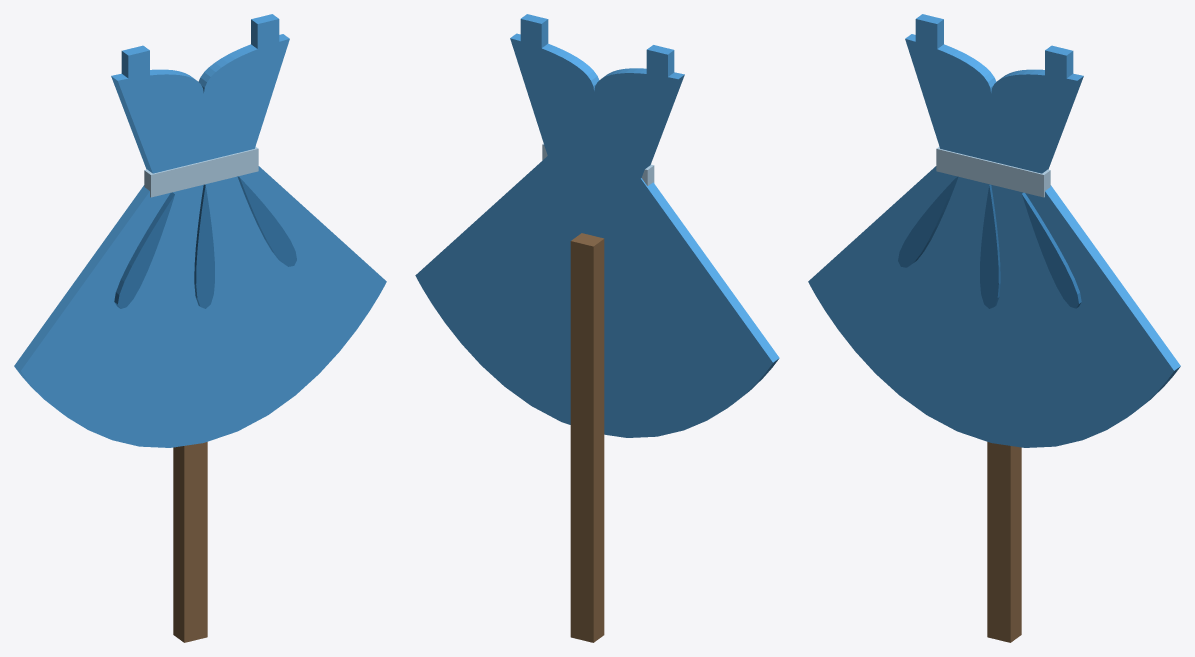
The model's file is robe.glb.
The picture shows the model from 3 angles, left to right: view 1: azimuth 30°, elevation 25°; view 2: azimuth 150°, elevation 25°; view 3: azimuth 330°, elevation 25°; orthographic projection. The views are drawn at different scales.
Bounding box in the file's own units: 0.9445 × 1.5 × 0.101.
